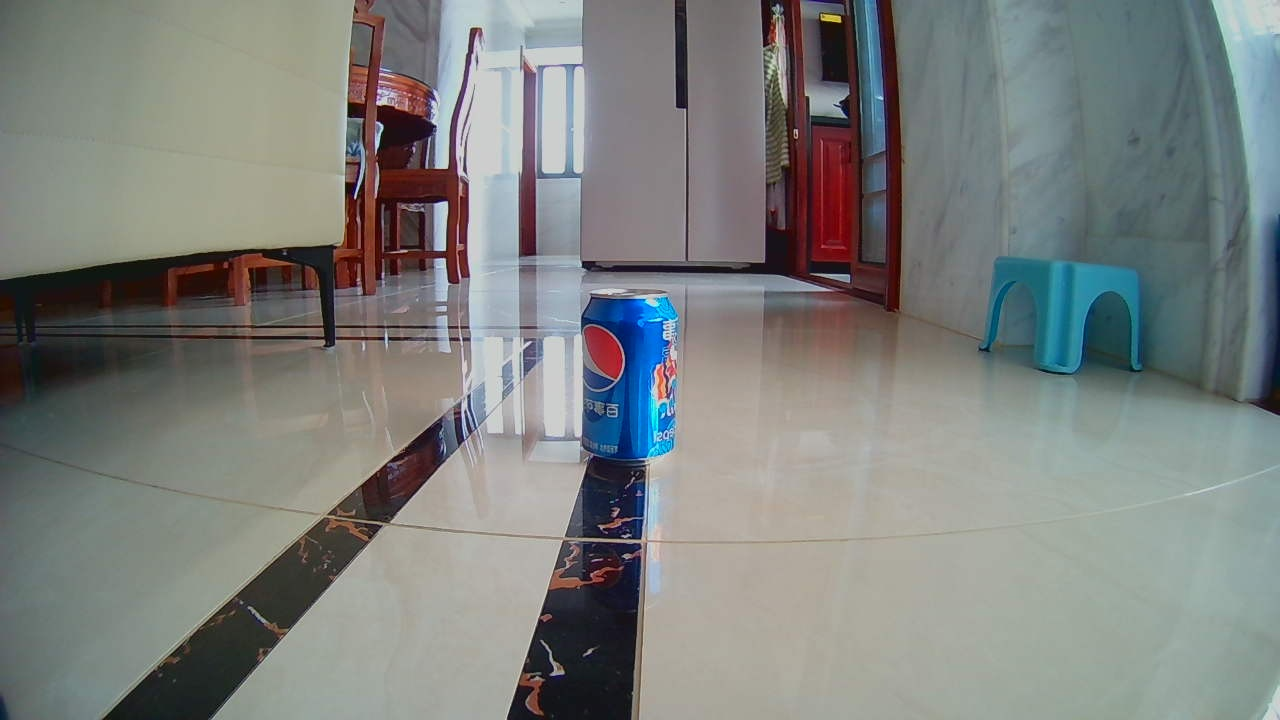pessi: (581, 289, 677, 460)
